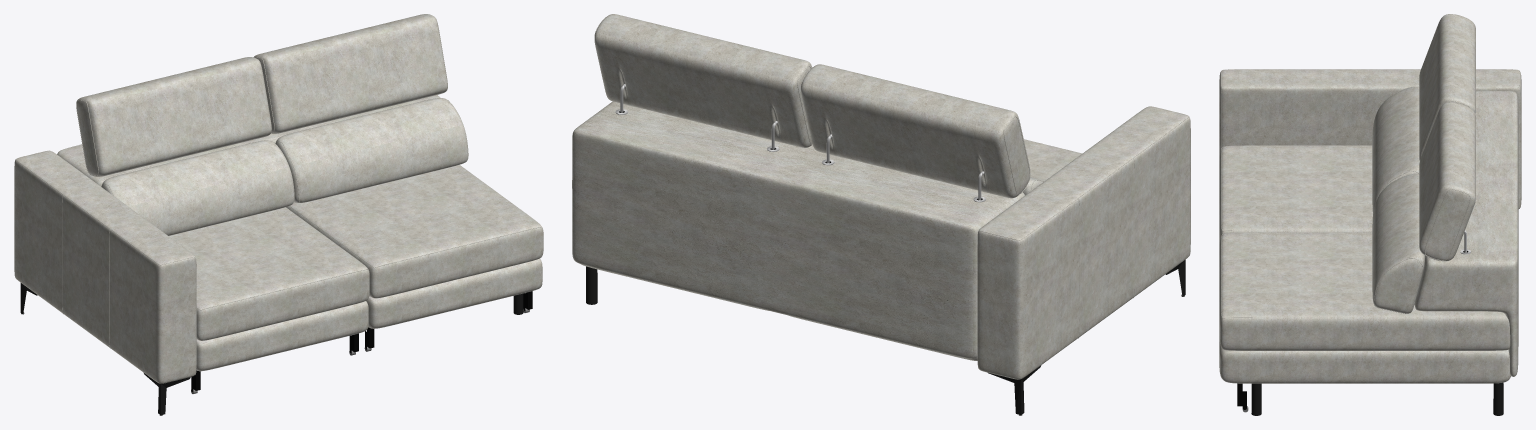
The model's file is arm2seats.glb.
3 views of the same model, side by side, from view 1: azimuth 30°, elevation 25°; view 2: azimuth 150°, elevation 25°; view 3: azimuth 270°, elevation 25° (orthographic). The views are drawn at different scales.
Visible parts, largest first — view 1: assento (×2), object 30, Bossa (×2), object 16, object 5, Costa; view 2: Costa, object 30, object 16, object 5, assento; view 3: assento (×2), object 30, Costa, Bossa (×2), object 5, object 16, Pé técnico (×2), D=~ 0,00 m.
Boxes of the visible parts, box(x1,y1,x2,y2) form: assento (×2): box(169, 165, 543, 393); object 30: box(14, 150, 196, 383); Bossa (×2): box(101, 98, 468, 235); object 16: box(76, 57, 271, 176); object 5: box(253, 14, 447, 133); Costa: box(57, 95, 440, 186); Costa: box(572, 101, 1024, 358); object 30: box(977, 106, 1190, 379); object 16: box(801, 64, 1030, 198); object 5: box(594, 14, 812, 147); assento: box(789, 139, 1082, 360); assento (×2): box(1219, 145, 1510, 412); object 30: box(1219, 69, 1521, 208); Costa: box(1414, 91, 1518, 376); Bossa (×2): box(1372, 86, 1425, 313); object 5: box(1419, 102, 1475, 261); object 16: box(1419, 14, 1475, 160); Pé técnico (×2): box(1251, 382, 1503, 415); D=~ 0,00 m: box(1221, 234, 1476, 318).
Size of the model in its own units: 1.68 by 0.9365 by 1.1.
Materials: 5 (2 with a texture image).
